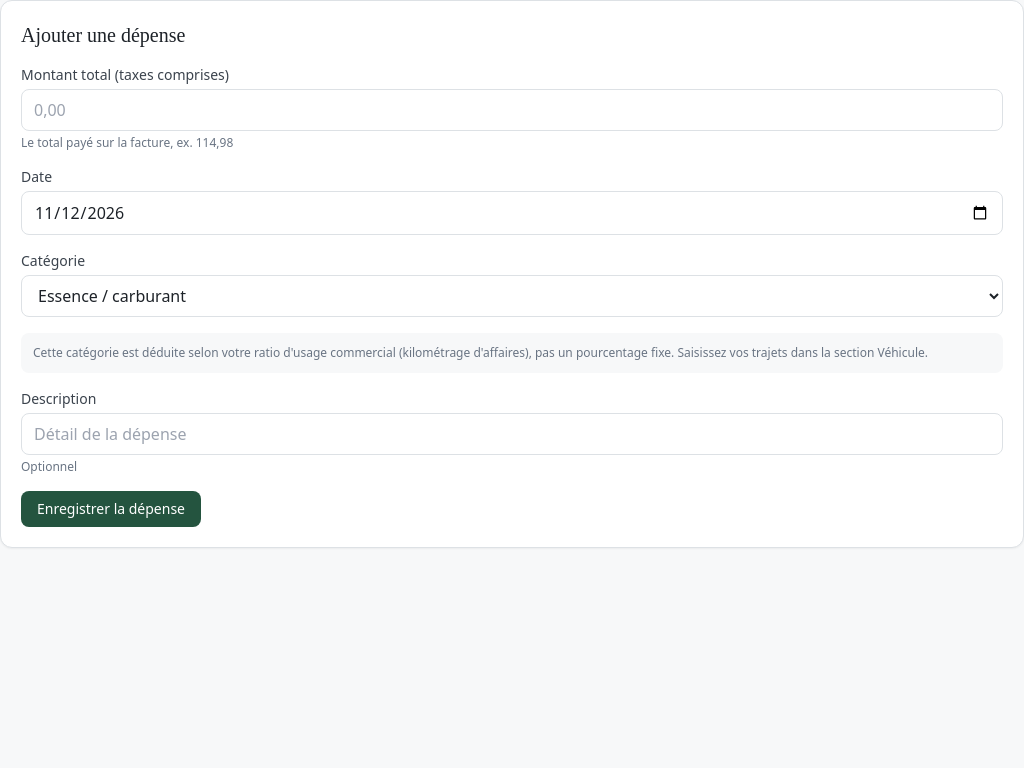
it: ExpenseForm › rejette un pourcentage hors bornes
The width and height of the screenshot is (1024, 768).
Type "50,00" into the field labelled "Montant total (taxes comprises)" at {"x": 512, "y": 110}, box x1=21 y1=89 x2=1003 y2=131
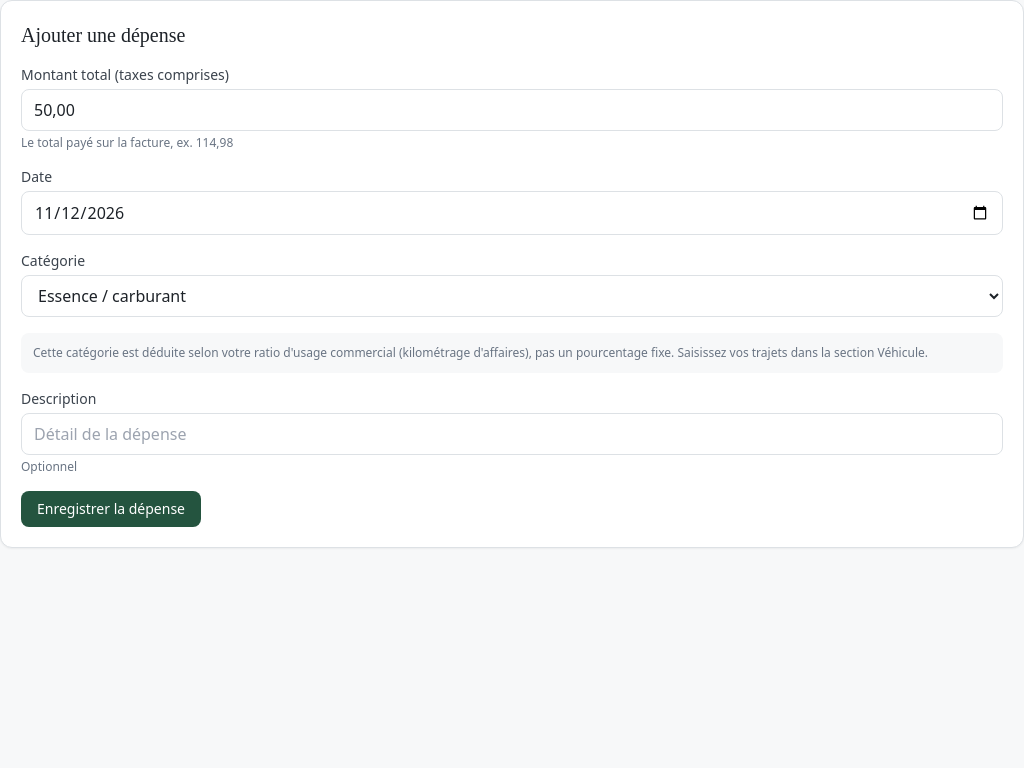
# S'assurer d'une catégorie non-véhicule (sinon le champ % est masqué).
Select "Fournitures de bureau / logiciels" in the dropdown labelled "Catégorie" at {"x": 512, "y": 296}, box x1=21 y1=275 x2=1003 y2=317
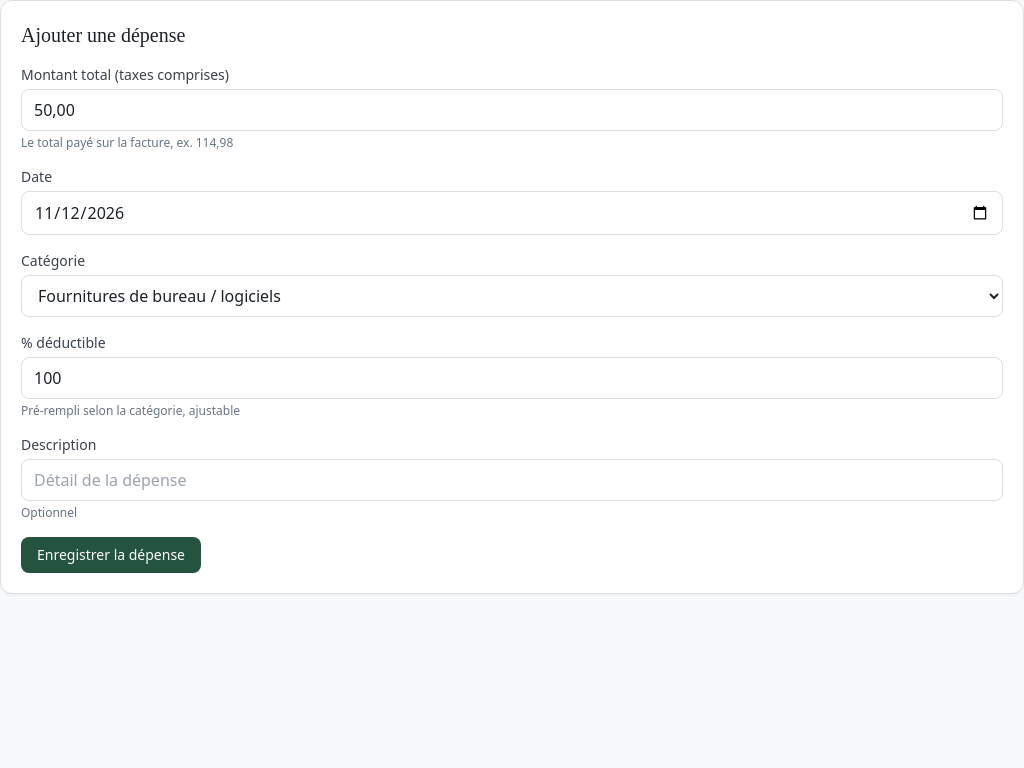
Replace the text in the field labelled "% déductible" with "150" at {"x": 512, "y": 378}, box x1=21 y1=357 x2=1003 y2=399
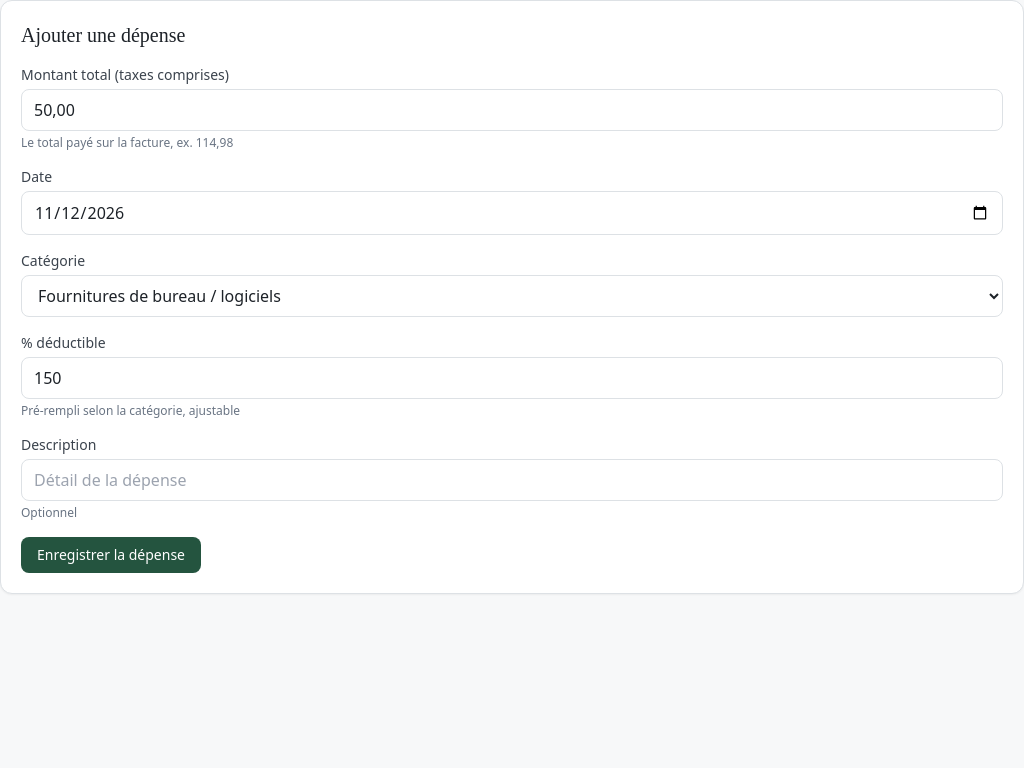
Click the button "Enregistrer la dépense" at {"x": 111, "y": 555}, box x1=21 y1=537 x2=201 y2=573
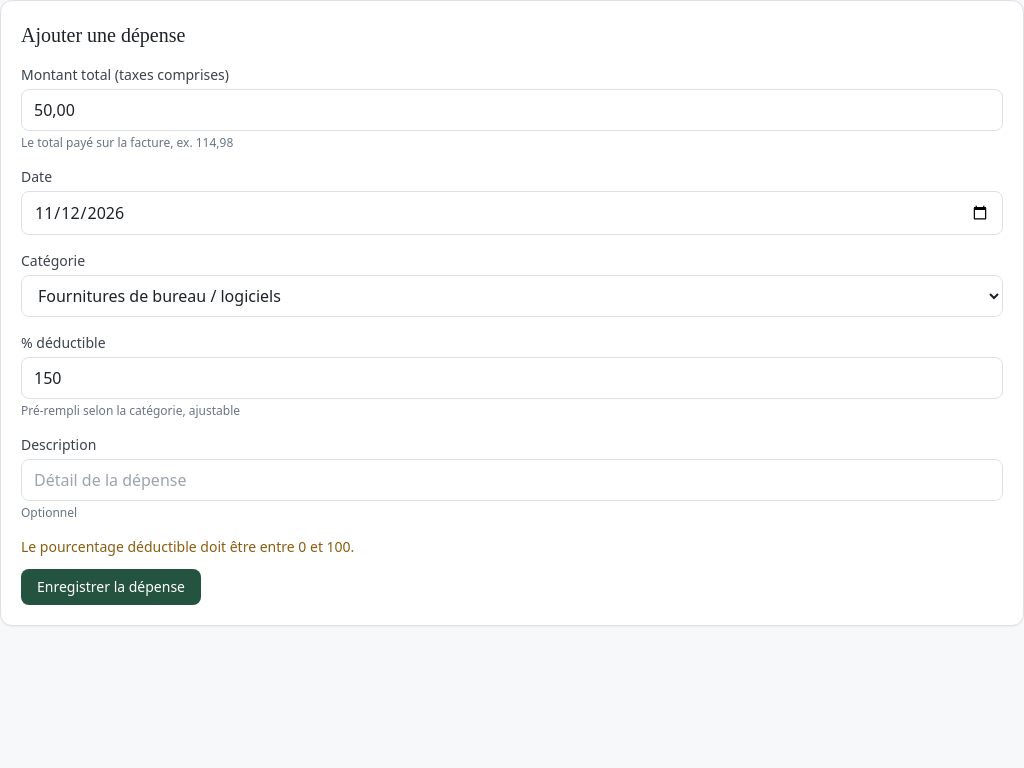
Result: the text "Le pourcentage déductible doit être entre 0 et 100." is shown at x1=21 y1=537 x2=354 y2=556
